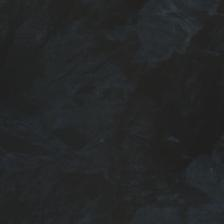landslides: (169, 17, 198, 37), (188, 0, 213, 13), (164, 26, 184, 41), (165, 0, 181, 15)
